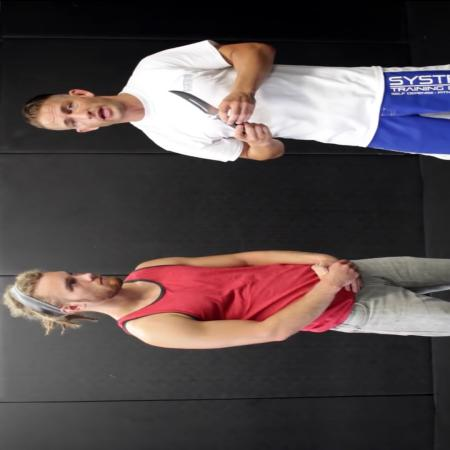long weapon: (159, 86, 250, 134)
